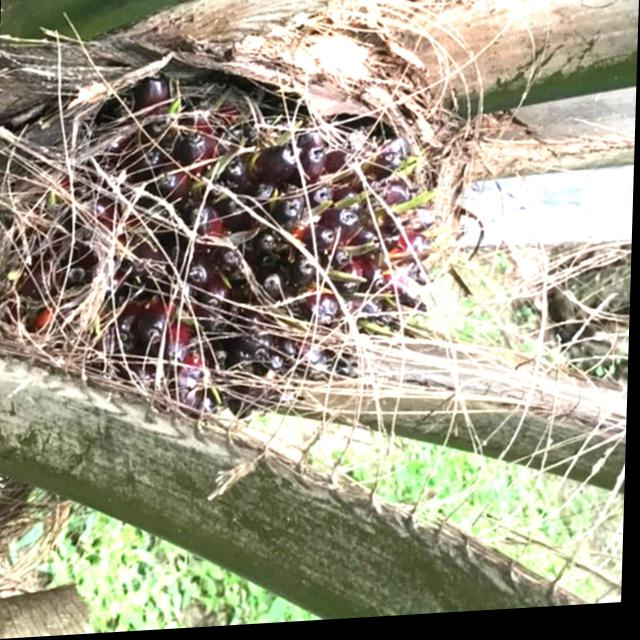ripe: (40, 41, 473, 423)
